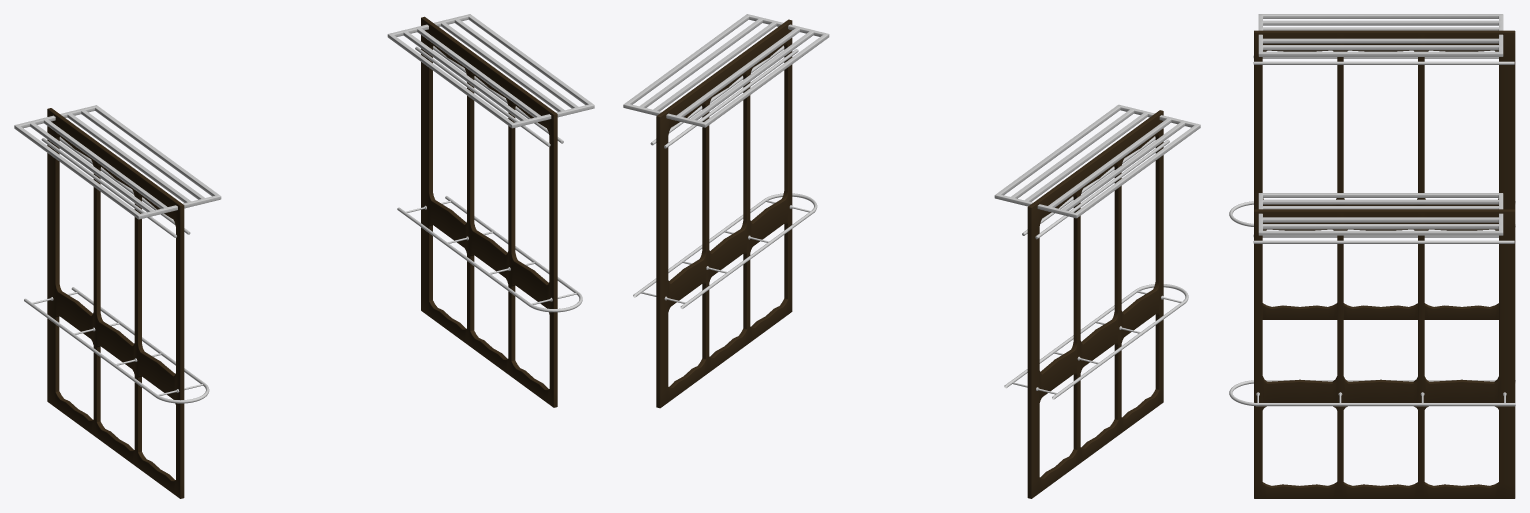
The model's file is rack.fbx.
The picture shows the model from 3 angles, left to right: view 1: azimuth 30°, elevation 25°; view 2: azimuth 150°, elevation 25°; view 3: azimuth 270°, elevation 25°; orthographic projection.
Parts seen in each view (by area): view 1: frame; view 2: frame; view 3: frame.
Part boxes in pixels (x1,y1,x2,y2): frame: (14, 14, 594, 498); frame: (623, 14, 1200, 498); frame: (1229, 14, 1515, 498).
Bounding box in the file's own units: 308 × 189 × 170.
